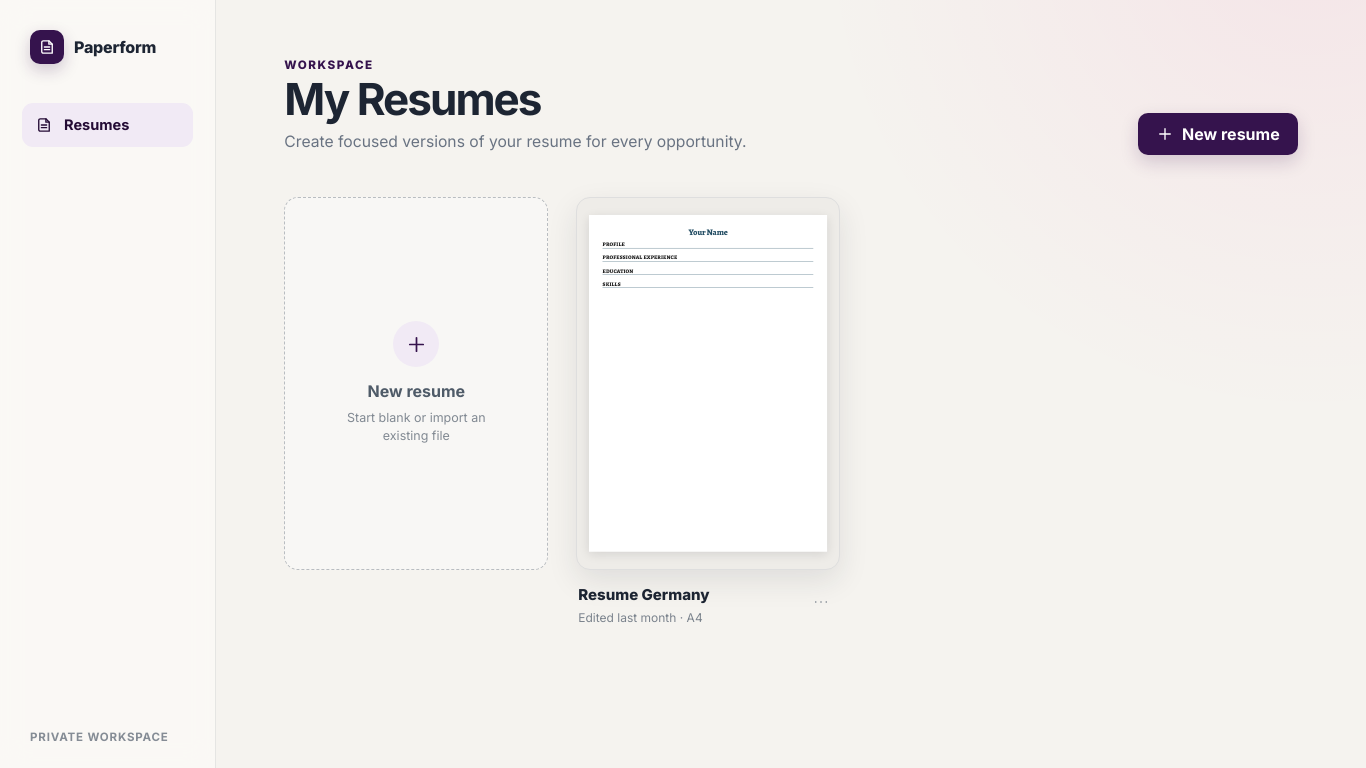
Test: DashboardLibrary › confirms the exact target title before deleting and removes the persisted card
Expected: the link "Resume Germany" is shown, x1=578 y1=585 x2=710 y2=605
Click the button named "Actions for Resume Germany": (821, 602) x1=804 y1=585 x2=838 y2=619
(page scrolled)
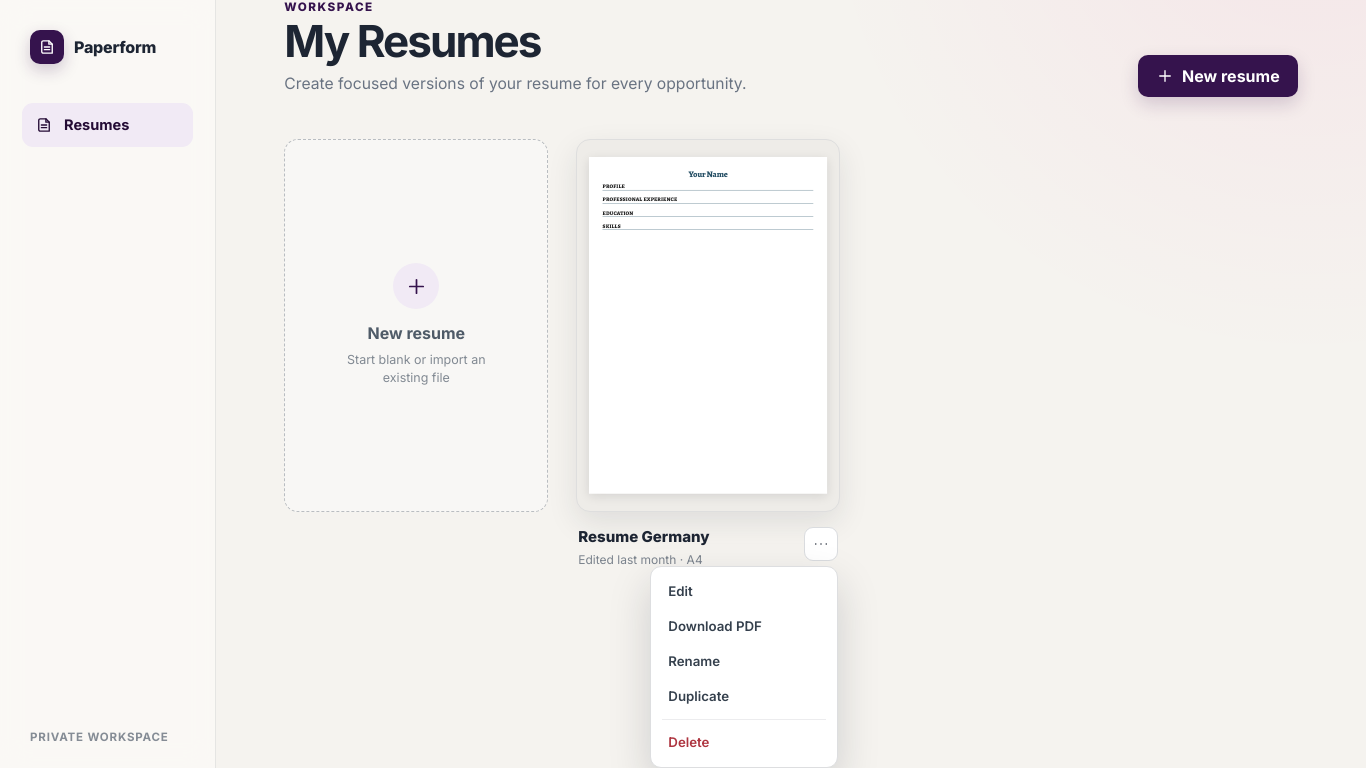
Click the menu item "Delete": (744, 742) x1=658 y1=725 x2=830 y2=760
(page scrolled)
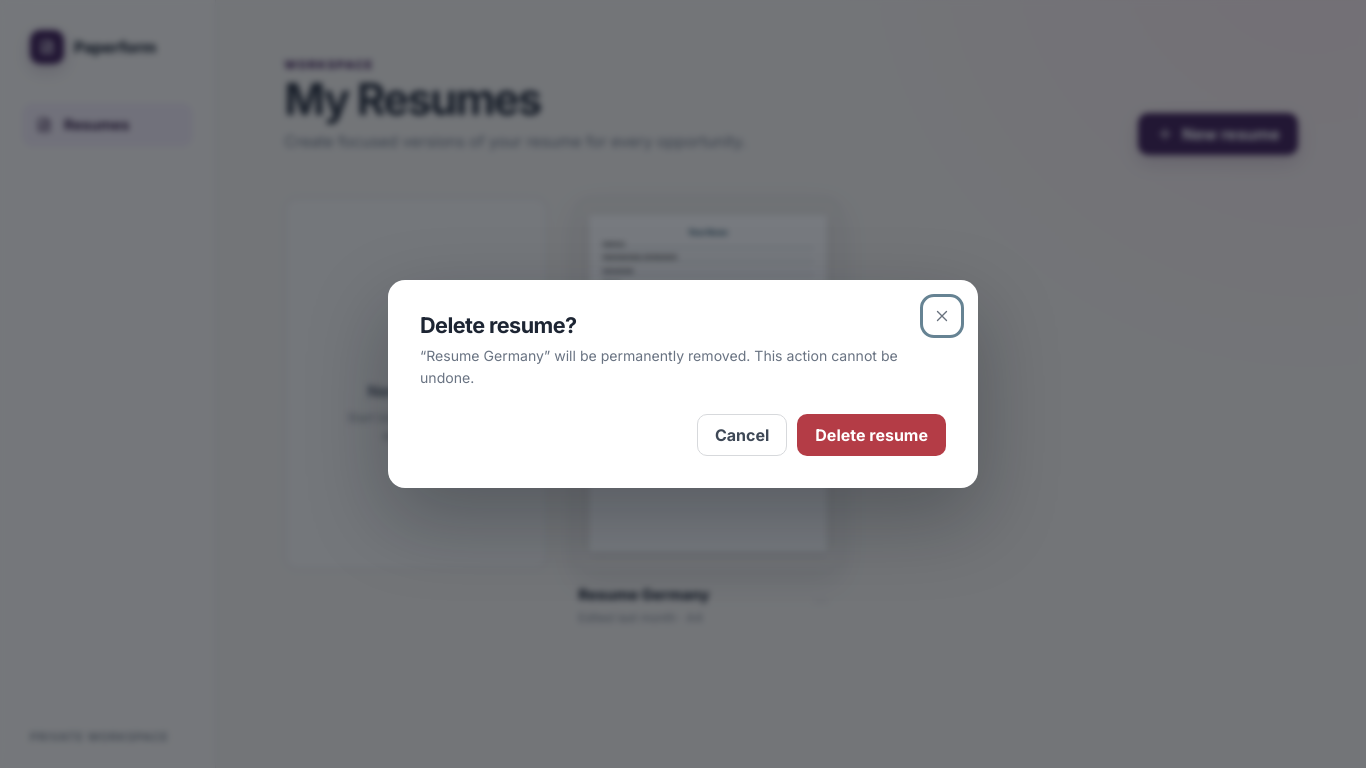
Click the button "Delete resume": (872, 435) x1=797 y1=414 x2=946 y2=456
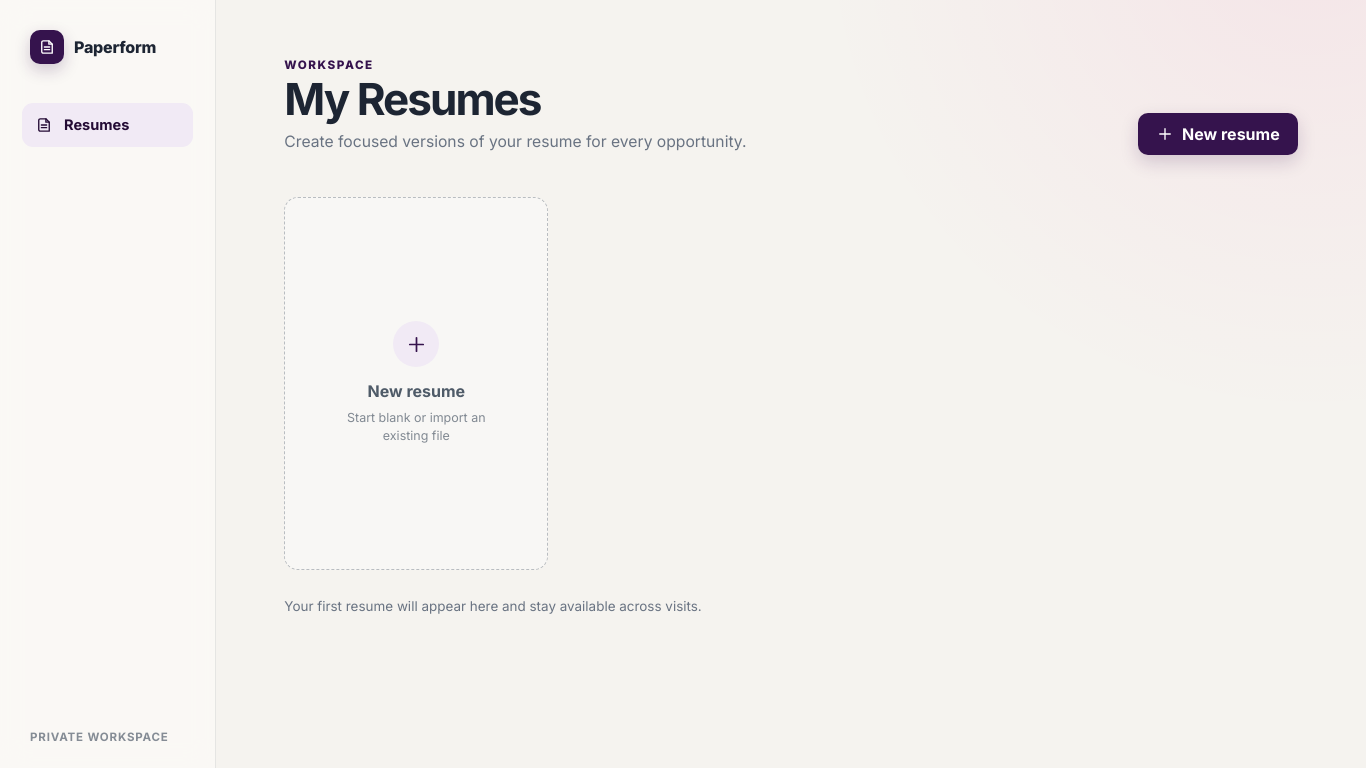
Expected: the link "Resume Germany" is gone
